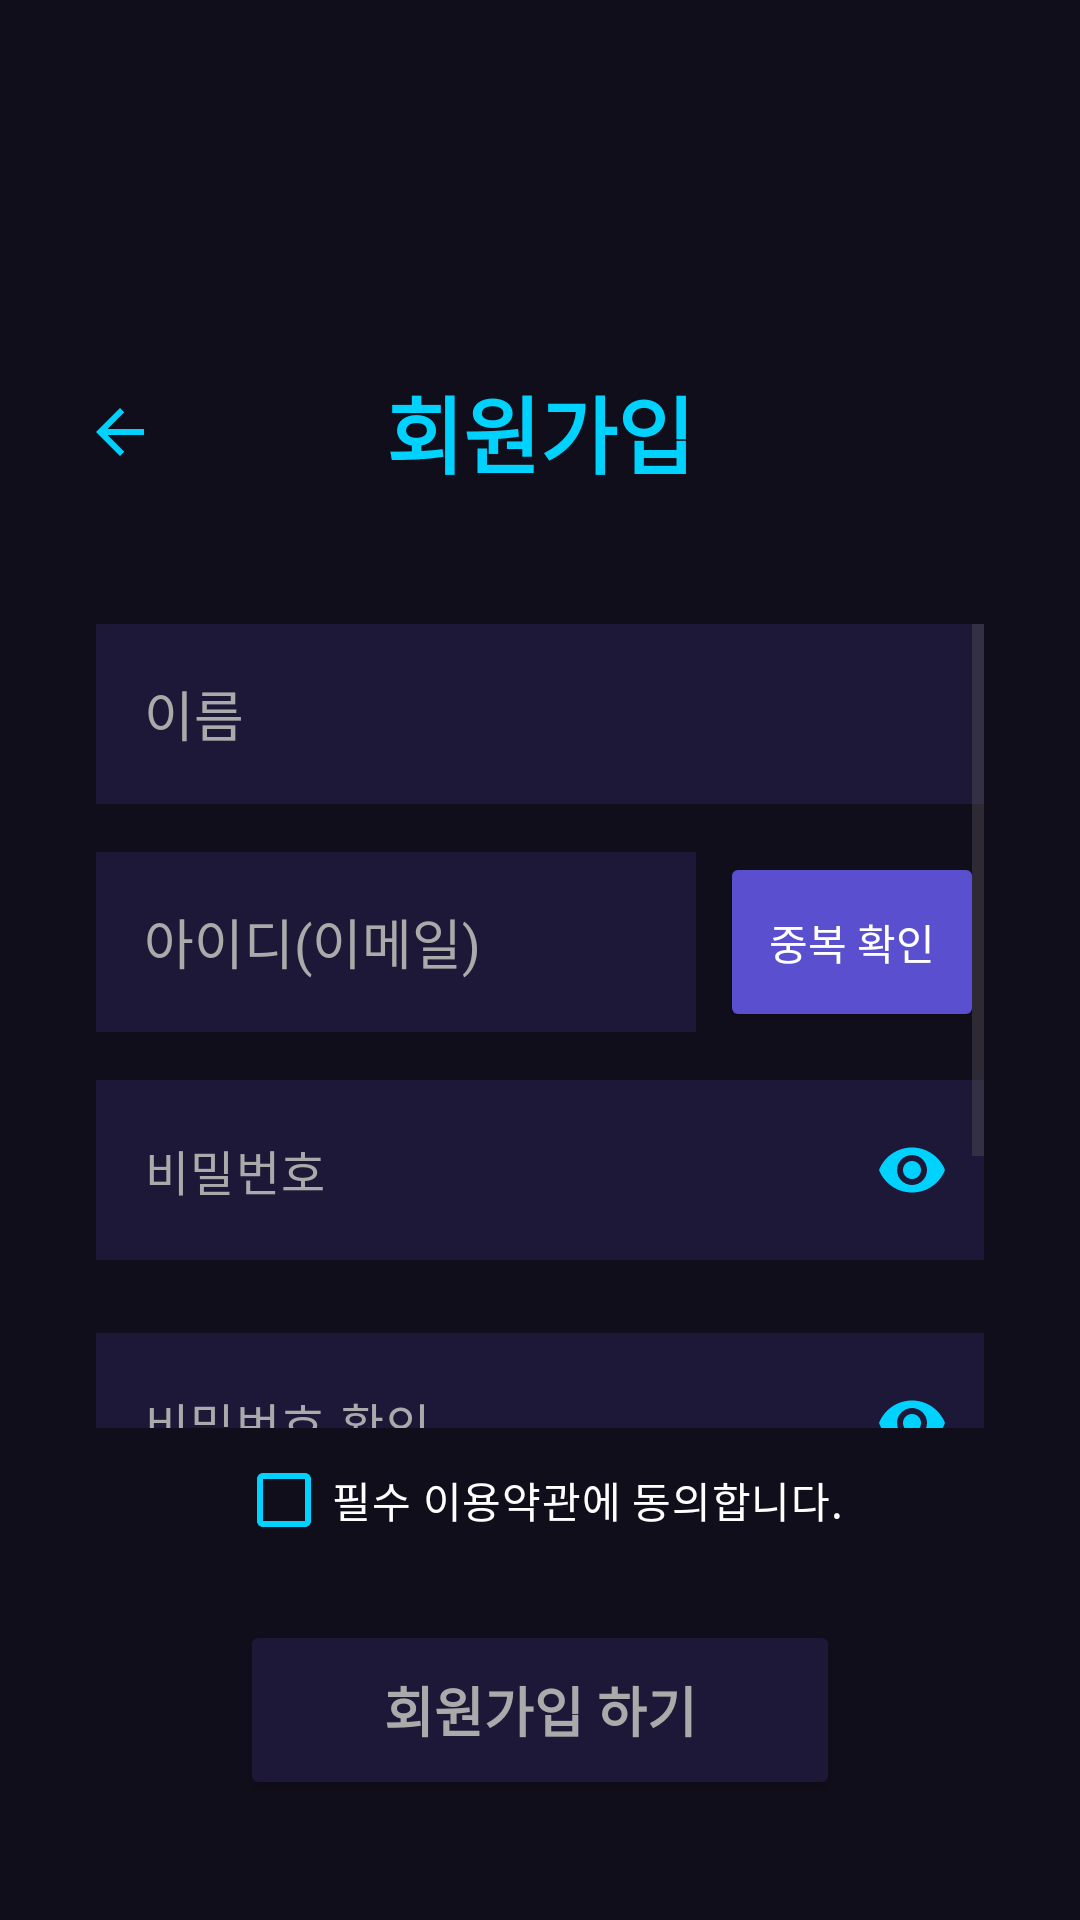

Point at icon controls on the screen. Image size 1080*1920, points as [x,y].
back: [120,432]
